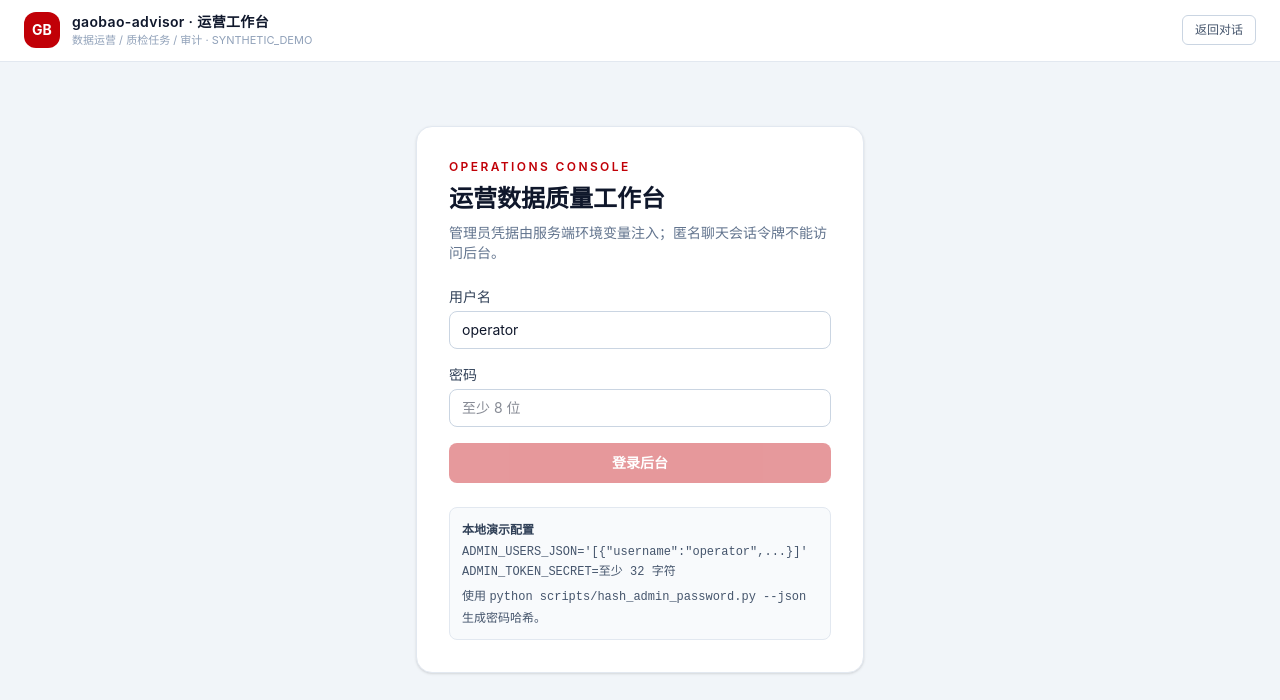
Scenario: AdminView access control › hides audit and disables writes for viewer
Type "viewer" into the field with test id "admin-username".
click(640, 330); type("viewer")  # box [449,310,831,348]
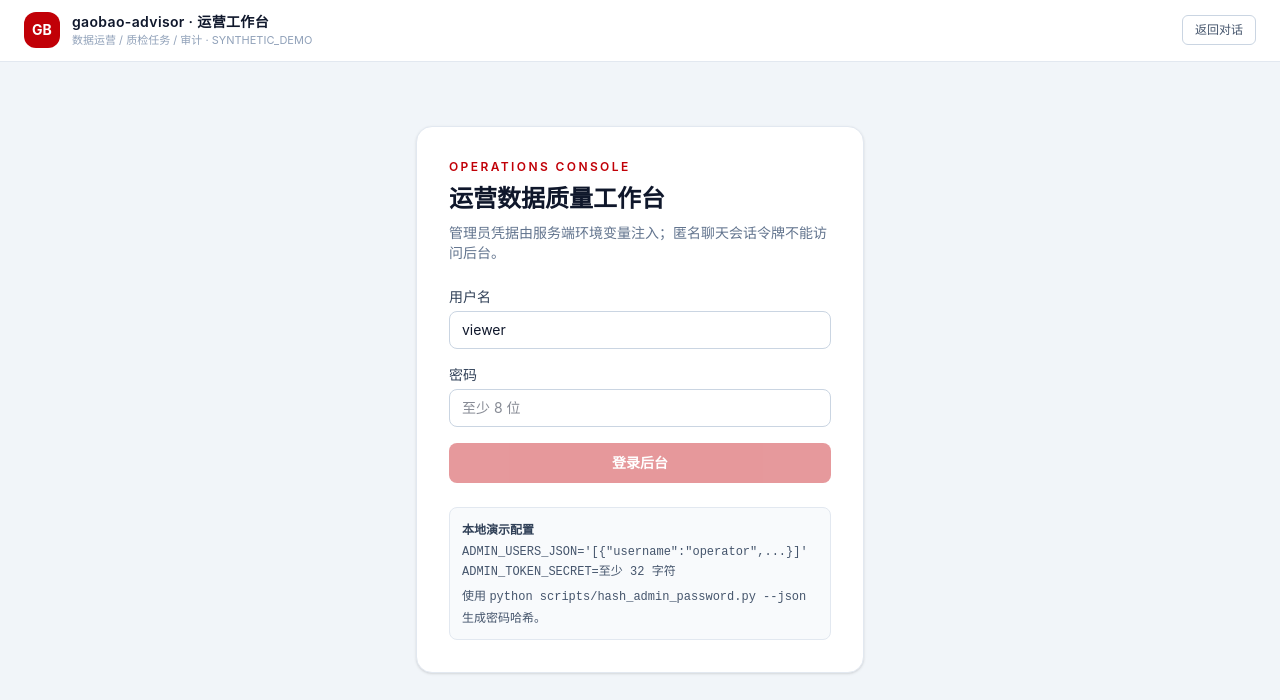
Type "password123" into the password field with test id "admin-password".
click(640, 408); type("password123")  # box [449,388,831,426]
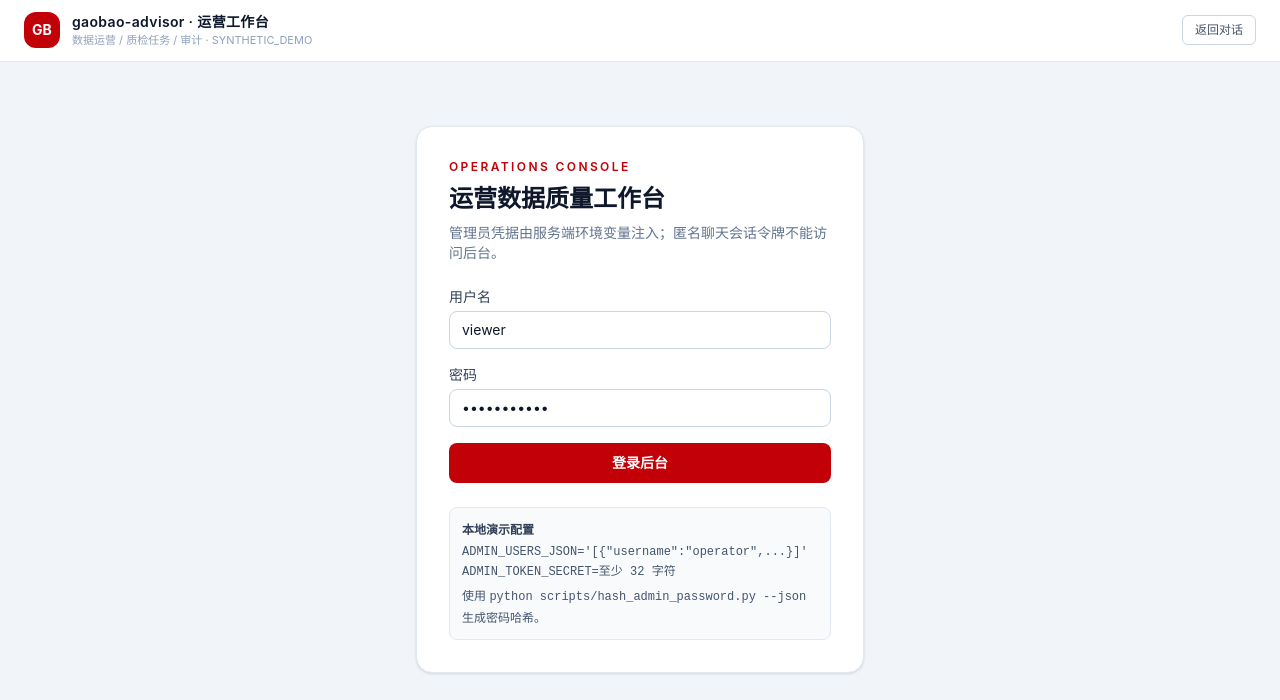
Submit the form, box [449,286,831,482]
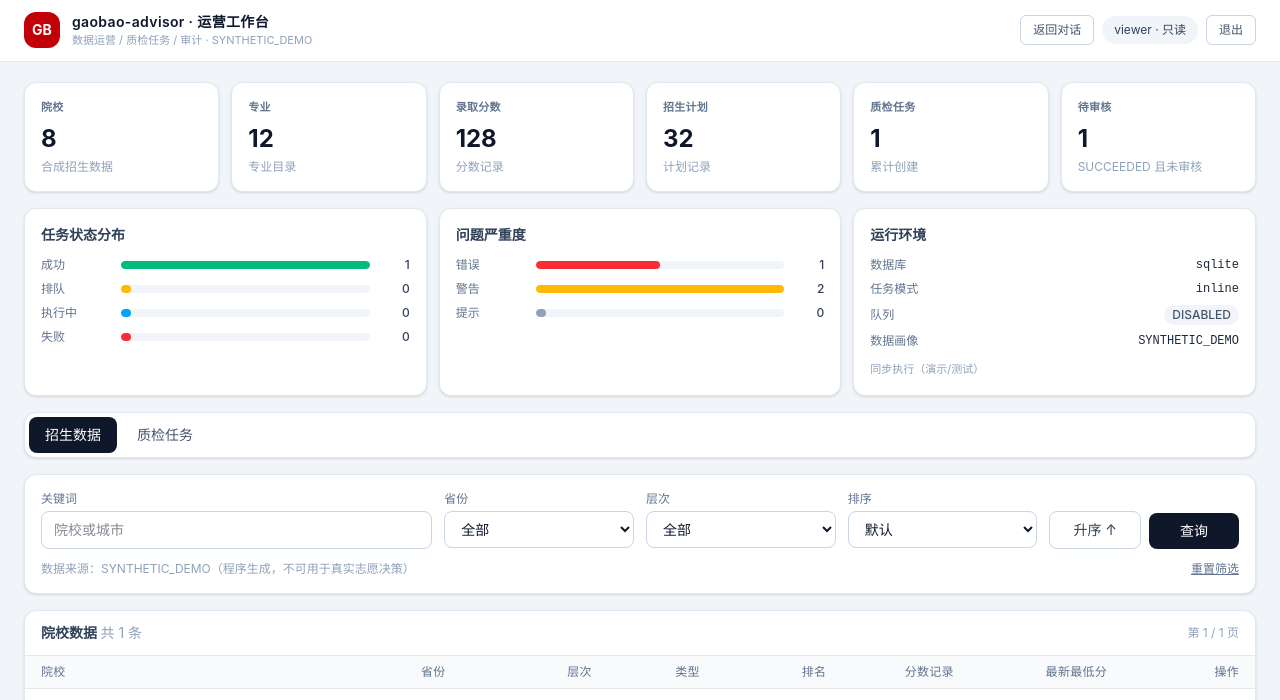
Click the tab with test id "tab-quality".
click(165, 435)  # box [121,417,209,453]
(page scrolled)
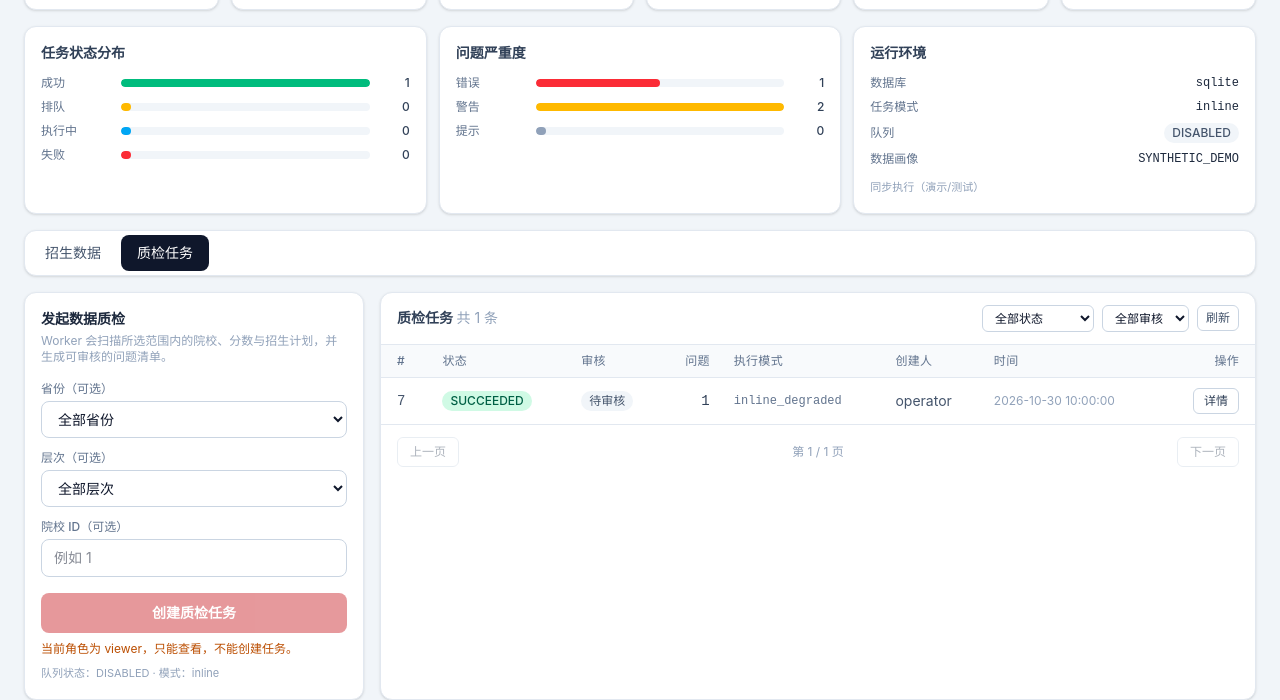
Check: the button with test id "create-job" is disabled, box [41,593,347,633]
Check: the text "只能查看" is shown, box [41,641,298,656]
